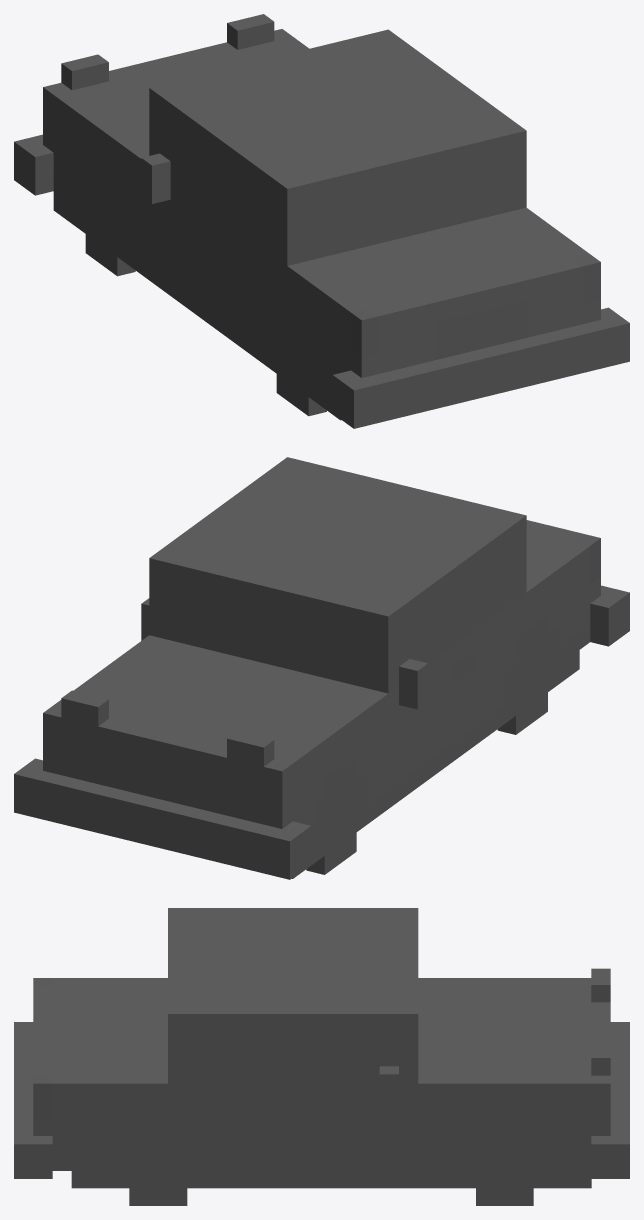
The model's file is veh_car2.obj.
The picture shows the model from 3 angles, top to bottom: view 1: azimuth 30°, elevation 25°; view 2: azimuth 150°, elevation 25°; view 3: azimuth 270°, elevation 25°; orthographic projection. The views are drawn at different scales.
Size of the model in its own units: 15 by 11 by 32.
